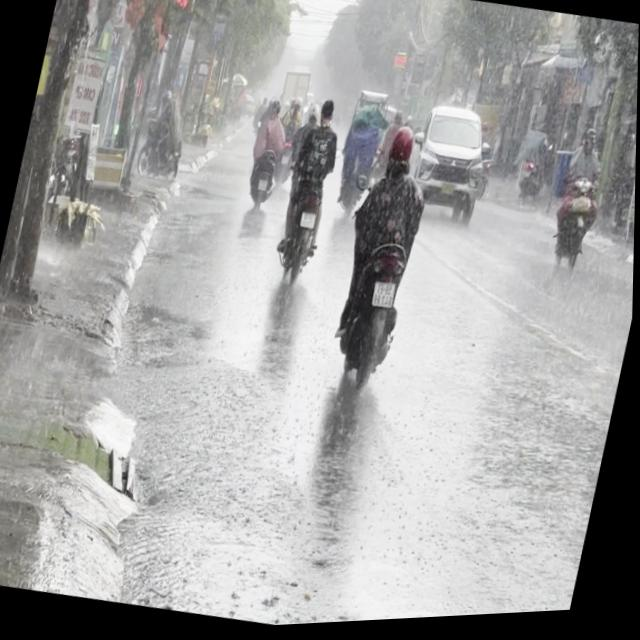helmet: (387, 125, 420, 177)
licenseplate: (318, 116, 446, 411), (268, 92, 353, 291)
motorcyclist: (319, 98, 338, 129)
nohelmet: (372, 283, 399, 312), (300, 214, 317, 232)
